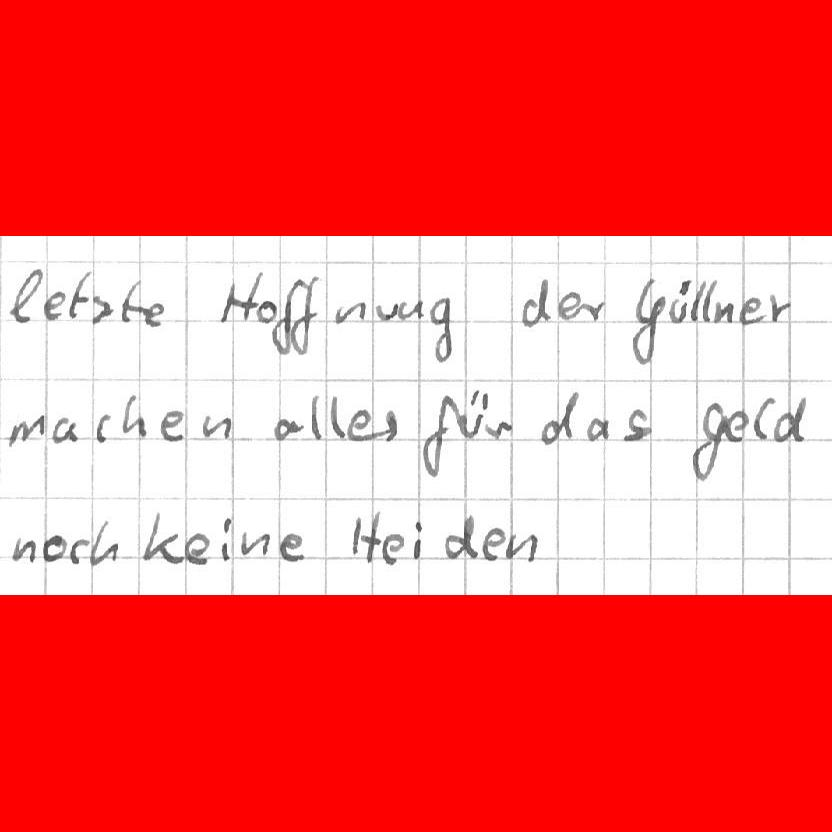Char: (629, 276, 666, 366), (419, 394, 456, 479), (690, 400, 726, 481), (216, 271, 264, 326), (291, 276, 322, 356), (141, 510, 184, 566), (268, 279, 298, 356), (6, 264, 44, 324), (540, 391, 580, 446), (426, 295, 454, 364), (520, 275, 553, 331), (351, 509, 382, 568), (444, 513, 480, 562), (456, 388, 488, 440), (87, 516, 119, 567), (773, 396, 808, 442), (8, 411, 47, 449), (67, 268, 93, 323), (119, 276, 143, 326), (121, 393, 148, 437), (621, 407, 653, 442), (505, 531, 540, 563), (751, 396, 775, 442), (344, 406, 372, 442), (669, 278, 690, 325), (372, 407, 399, 443), (380, 531, 406, 567), (555, 290, 583, 323), (333, 300, 367, 327), (273, 415, 307, 442), (201, 413, 233, 441), (182, 533, 210, 565), (329, 394, 348, 441), (40, 288, 67, 321), (159, 409, 186, 442), (737, 295, 765, 326), (239, 529, 270, 557), (483, 526, 506, 563), (52, 414, 79, 445), (10, 534, 37, 564), (280, 531, 306, 562), (720, 411, 744, 444), (89, 295, 115, 325), (140, 299, 166, 329), (482, 415, 512, 441), (42, 532, 68, 562), (768, 291, 792, 323), (308, 393, 323, 442), (584, 416, 611, 443), (689, 280, 705, 323), (580, 298, 606, 324), (396, 299, 424, 323), (701, 280, 716, 324), (219, 516, 233, 563), (68, 536, 90, 565), (254, 300, 278, 325), (95, 412, 112, 444), (375, 299, 397, 322), (411, 519, 423, 560), (713, 298, 731, 323)
